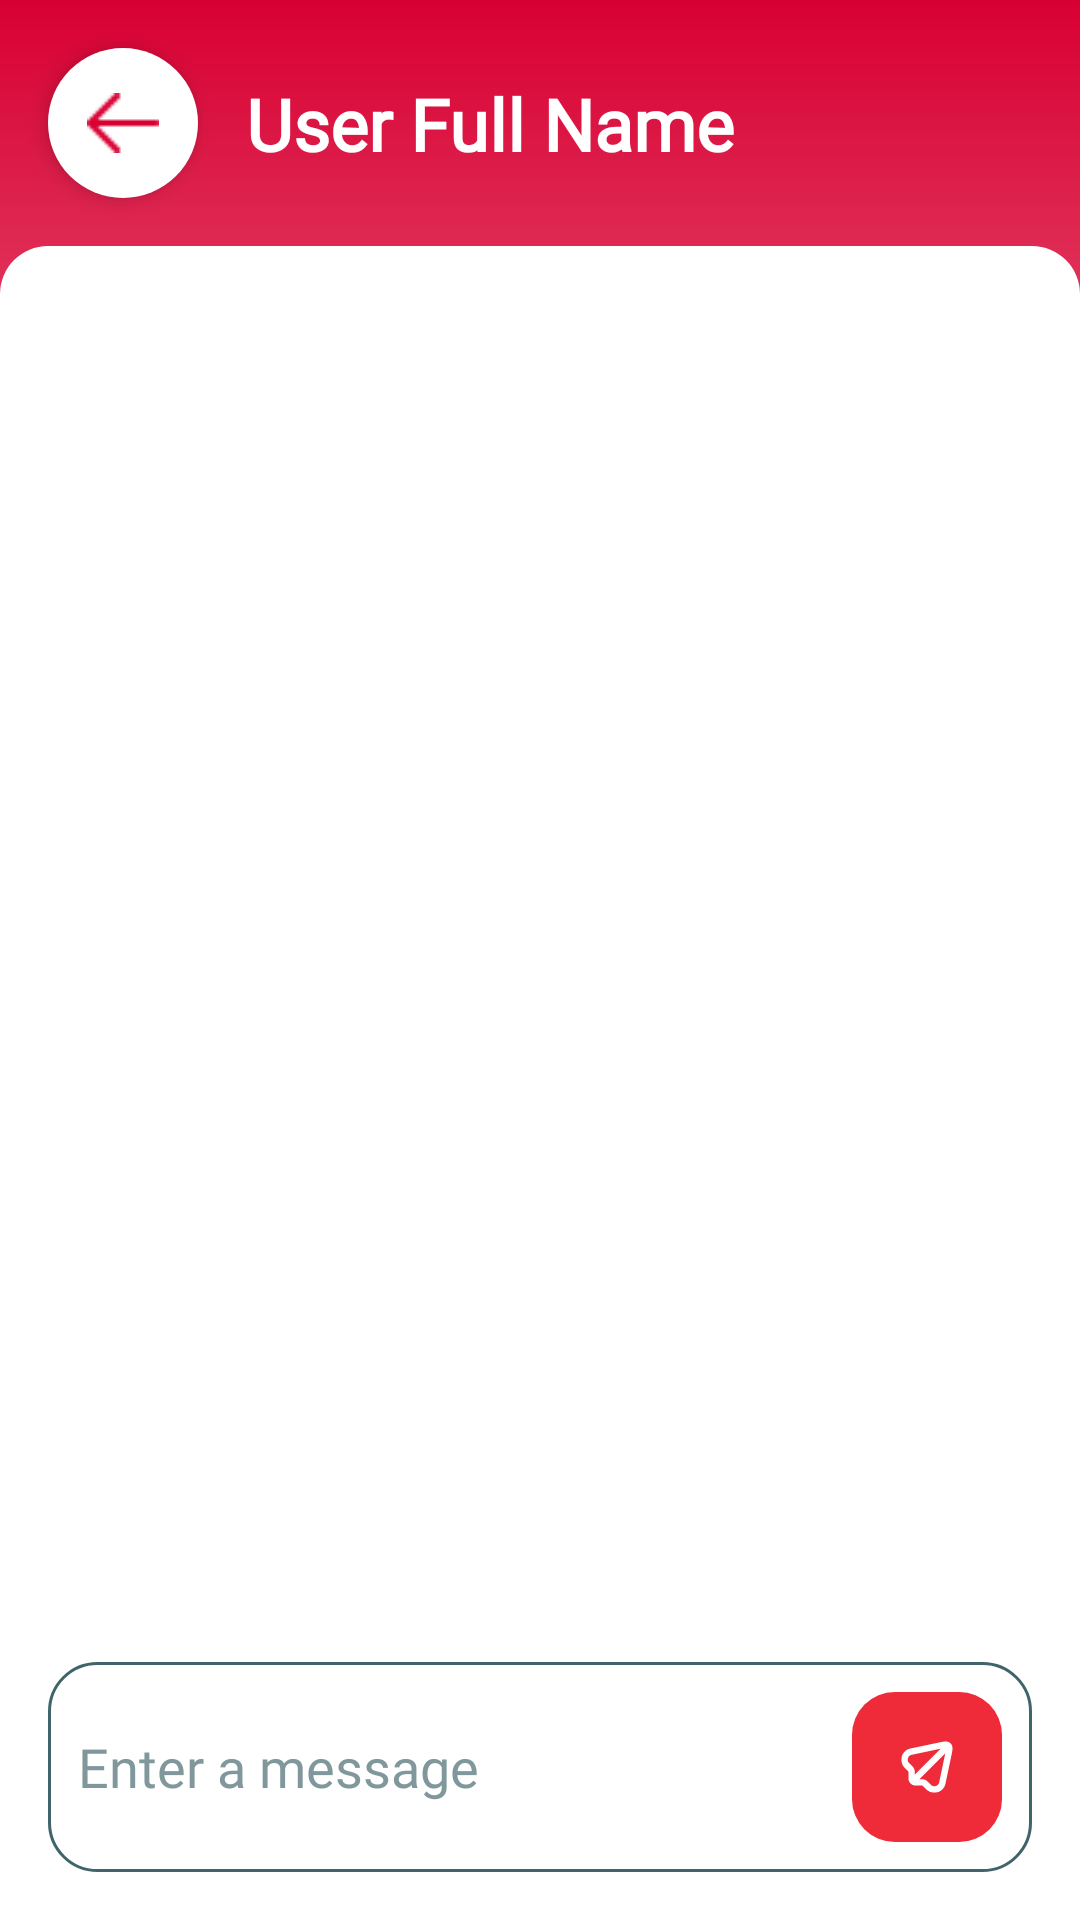

Named icons in this screenshot (1080×1920) and their centers, point (x, y):
Back: point (123, 123)
send message ripple: point (927, 1767)
